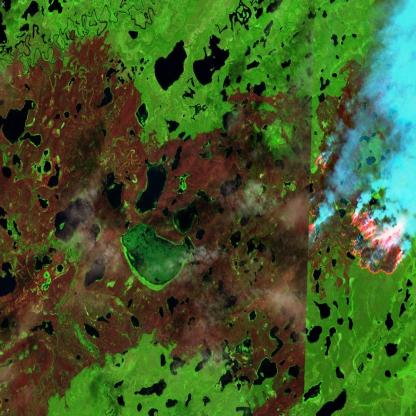fire: (303, 138, 412, 289)
